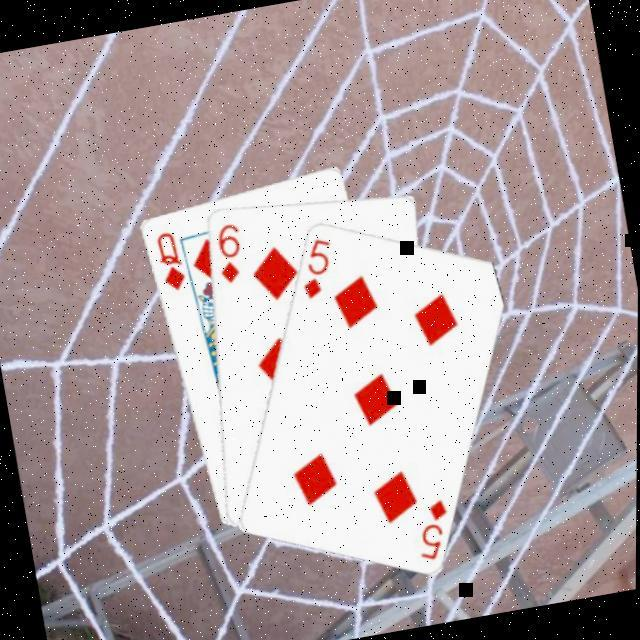5D: (292, 230, 344, 300), (409, 491, 460, 562)
6D: (210, 216, 252, 284)
QD: (152, 224, 192, 294)
